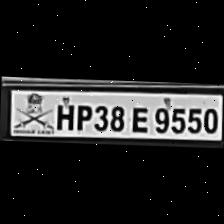0: (199, 105, 219, 134)
3: (90, 101, 110, 132)
5: (168, 103, 186, 134), (184, 104, 202, 134)
8: (106, 103, 126, 132)
9: (150, 102, 170, 133)
E: (128, 102, 150, 132)
H: (52, 99, 74, 130)
P: (72, 100, 92, 132)
